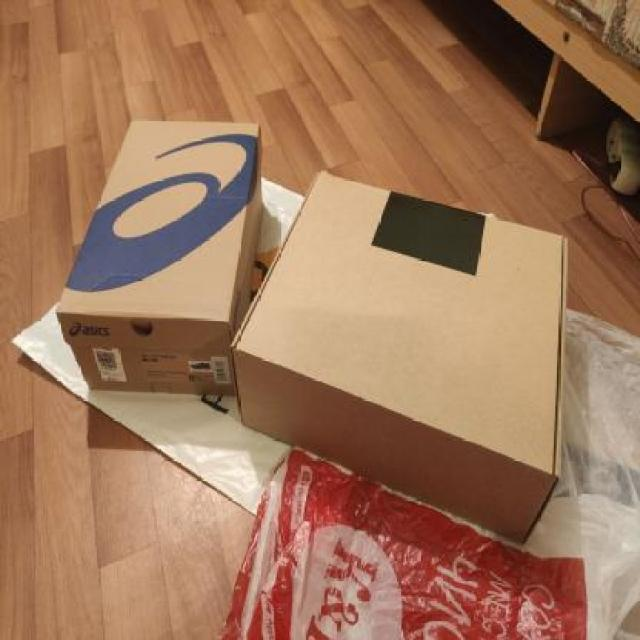box: (232, 172, 568, 548), (52, 114, 242, 406)
